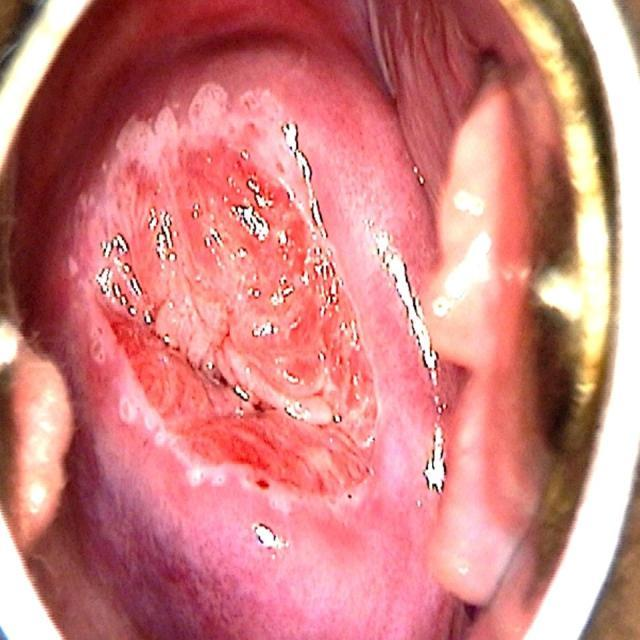cervical_lesion: (73, 75, 381, 514)
